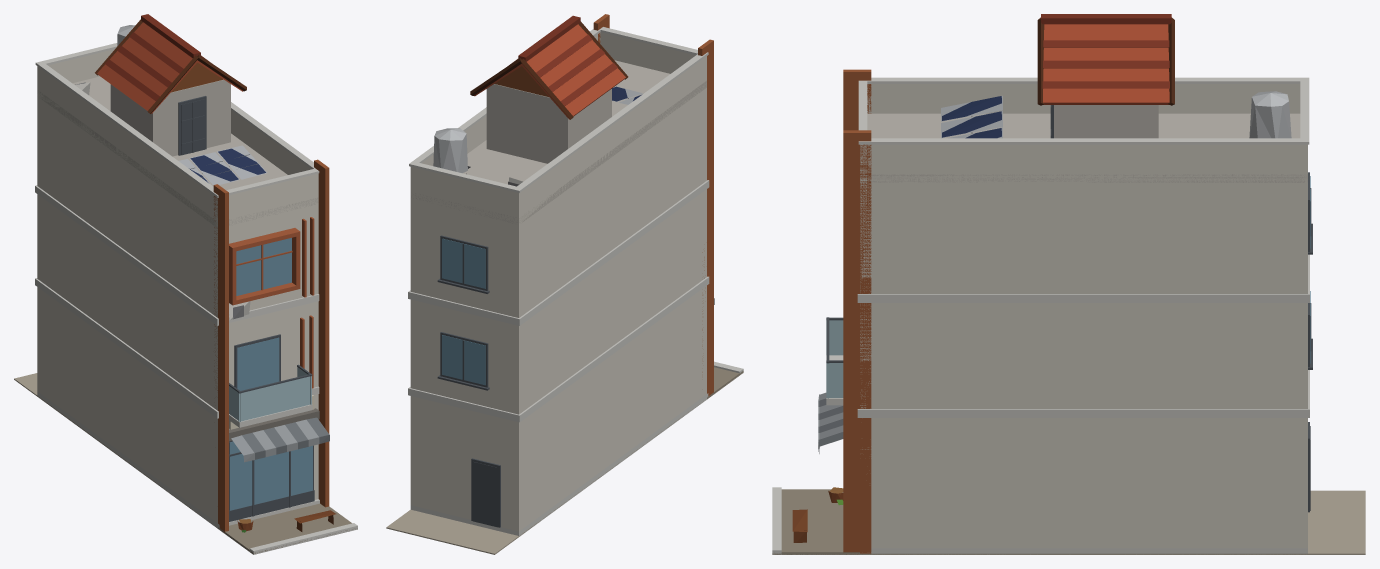
The model's file is bay1_mid2.glb.
The picture shows the model from 3 angles, left to right: view 1: azimuth 30°, elevation 25°; view 2: azimuth 150°, elevation 25°; view 3: azimuth 270°, elevation 25°; orthographic projection. The views are drawn at different scales.
Parts seen in each view (by area): view 1: body; view 2: body; view 3: body.
Part boxes in pixels (left/top/right/bottom): body: left=14, top=14, right=357, bottom=554; body: left=386, top=14, right=743, bottom=554; body: left=772, top=14, right=1365, bottom=554.
Bounding box in the file's own units: 4.12 × 15.37 × 15.9.
